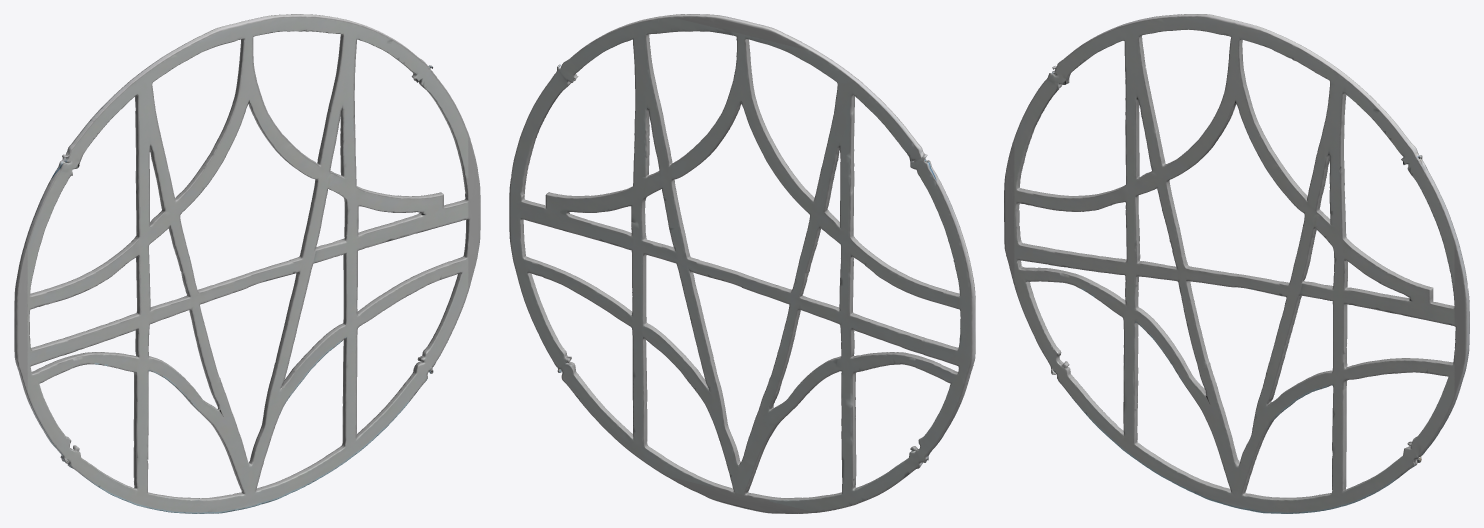
The model's file is Geometric_Web_0328195432_texture.glb.
3 renders of one model, left to right at view 1: azimuth 30°, elevation 25°; view 2: azimuth 150°, elevation 25°; view 3: azimuth 330°, elevation 25°, orthographic.
Size of the model in its own units: 2 by 2 by 0.0322.
Materials: 1 (1 with a texture image).
